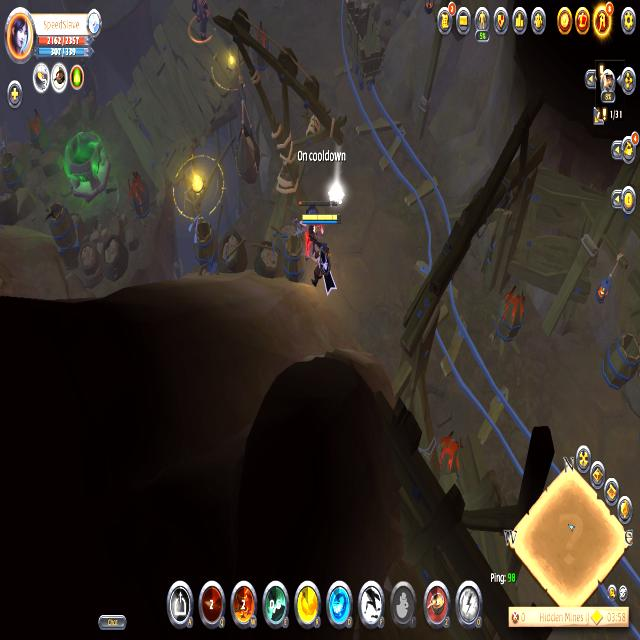ore: (294, 197, 340, 240), (185, 0, 217, 46)
red: (299, 208, 343, 299)
stone: (326, 180, 346, 209)
